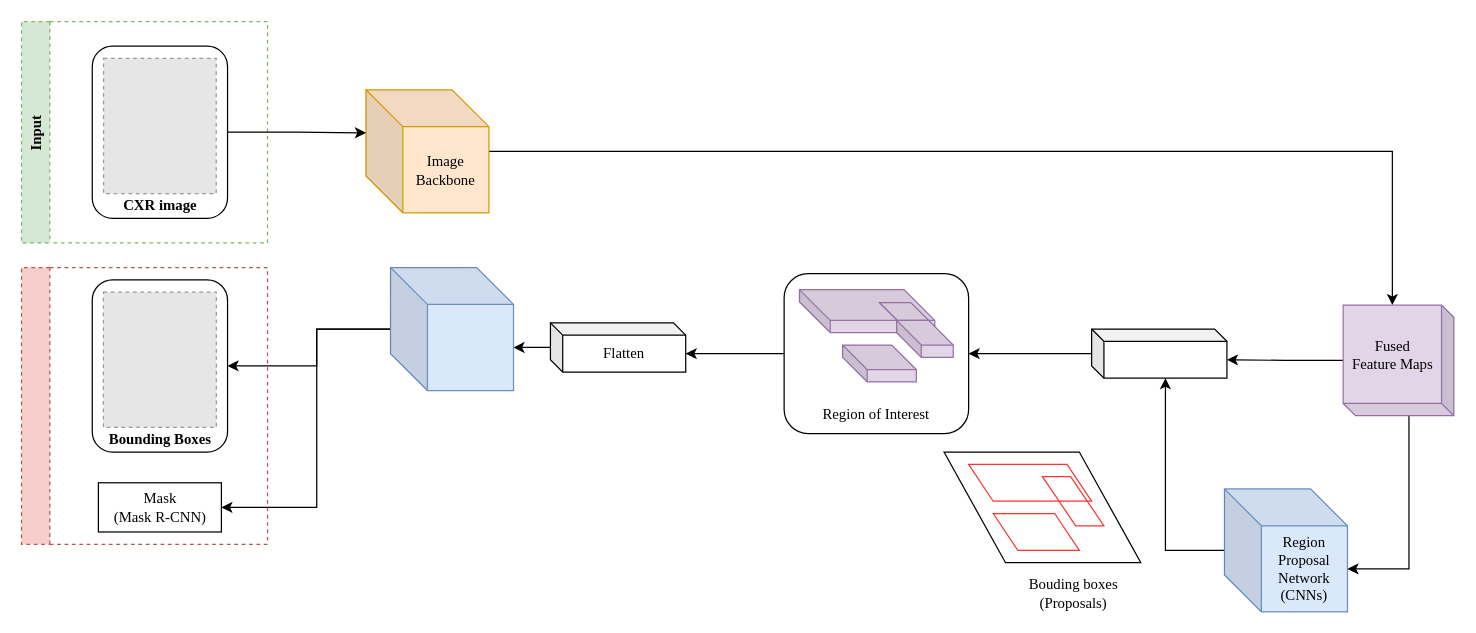
Image size: 1476x633. Some labels were removed from this diagram. Grey dashed boxes stand in for pictures. The shapes that lost their labels are listed below. From the top down, each one's box as (x1, y1, x2, y2) in pixels, then its label:
(389, 266, 514, 391): Classifier
(1090, 328, 1227, 378): ROI Pooling
(20, 266, 268, 544): Output
